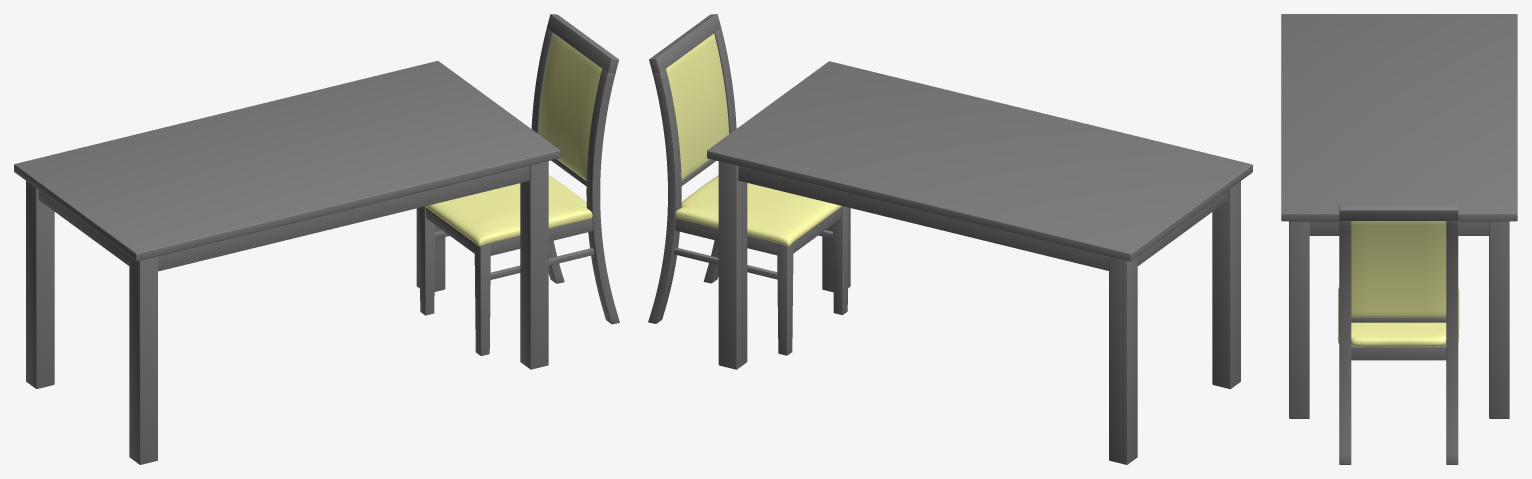
Rendered from table ERNEST 160_200 & chair SYLWEK 1.FBX.
3 renders of one model, left to right at view 1: azimuth 30°, elevation 25°; view 2: azimuth 150°, elevation 25°; view 3: azimuth 270°, elevation 25°, orthographic. The views are drawn at different scales.
Parts seen in each view (by area): view 1: ChamferBox004, ножка_стол_004, ChamferBox007, ChamferBox096, ножка_стол_001, ножка_стол_003, Box021, ChamferBox092, ChamferBox098, ChamferBox099, ChamferBox097, ChamferBox101 (+4 smaller); view 2: ChamferBox004, ножка_стол_002, ножка_стол_003, ChamferBox096, ChamferBox008, ножка_стол_004, Box021, ChamferBox101, ChamferBox099, ChamferBox098, ChamferBox097, ChamferBox092 (+4 smaller); view 3: ChamferBox004, ChamferBox096, ножка_стол_001, ножка_стол_002, ChamferBox092, ChamferBox101, Box021, ChamferBox097, ChamferBox095, ChamferBox005, ChamferBox104.
Boxes of the visible parts, x1,y1,x2,y2 form: ChamferBox004: (14,61,560,261); ножка_стол_004: (129,256,157,464); ChamferBox007: (158,165,529,271); ChamferBox096: (539,33,601,180); ножка_стол_001: (520,161,548,369); ножка_стол_003: (26,181,54,388); Box021: (425,175,592,246); ChamferBox092: (586,68,619,324); ChamferBox098: (474,243,490,355); ChamferBox099: (419,206,435,315); ChamferBox097: (547,14,618,73); ChamferBox101: (531,28,564,283); ChamferBox004: (707,61,1252,261); ножка_стол_002: (718,161,747,369); ножка_стол_003: (1109,256,1137,464); ChamferBox096: (666,33,729,179); ChamferBox008: (738,166,1108,270); ножка_стол_004: (1212,181,1240,389); Box021: (675,175,842,246); ChamferBox101: (648,69,681,323); ChamferBox099: (777,243,793,355); ChamferBox098: (832,206,848,315); ChamferBox097: (649,14,721,73); ChamferBox092: (703,28,736,283); ChamferBox004: (1281,14,1517,221); ChamferBox096: (1351,221,1446,316); ножка_стол_001: (1289,221,1309,418); ножка_стол_002: (1489,221,1509,418); ChamferBox092: (1339,221,1351,464); ChamferBox101: (1446,221,1458,464); Box021: (1338,287,1459,346); ChamferBox097: (1339,204,1458,220); ChamferBox095: (1351,345,1446,360); ChamferBox005: (1309,221,1488,235); ChamferBox104: (1351,317,1446,322).
Bounding box in the file's own units: 194 × 95.76 × 80.
